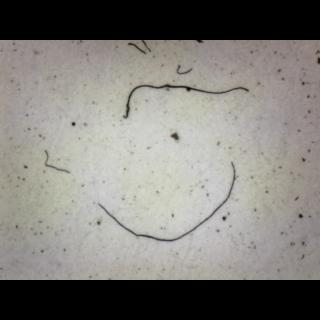Microplastic: (95, 156, 243, 254), (114, 81, 260, 127), (19, 142, 76, 178), (114, 40, 164, 62), (168, 58, 205, 80)
